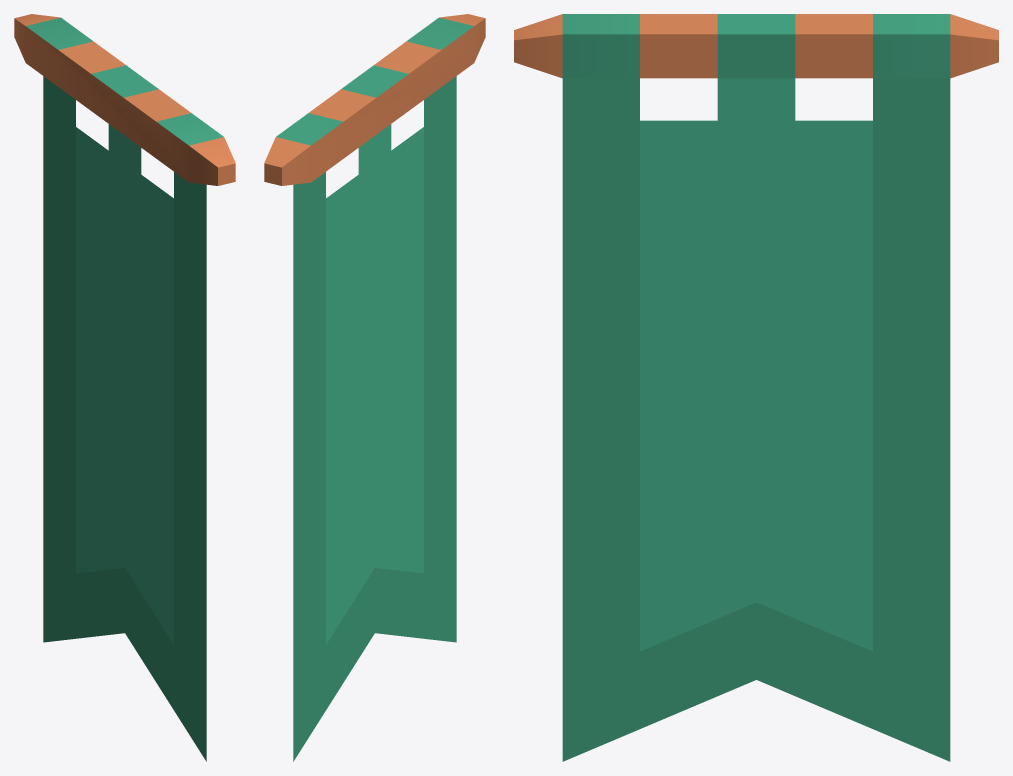
Rendered from bannerGreen.dae.
The picture shows the model from 3 angles, left to right: view 1: azimuth 30°, elevation 25°; view 2: azimuth 150°, elevation 25°; view 3: azimuth 270°, elevation 25°; orthographic projection. The views are drawn at different scales.
Parts seen in each view (by area): view 1: bannerGreen; view 2: bannerGreen; view 3: bannerGreen.
Part boxes in pixels (x1,y1,x2,y2): bannerGreen: (14,14,235,761); bannerGreen: (264,14,485,761); bannerGreen: (514,14,998,761).
Size of the model in its own units: 0.05 by 0.8394 by 0.5.
